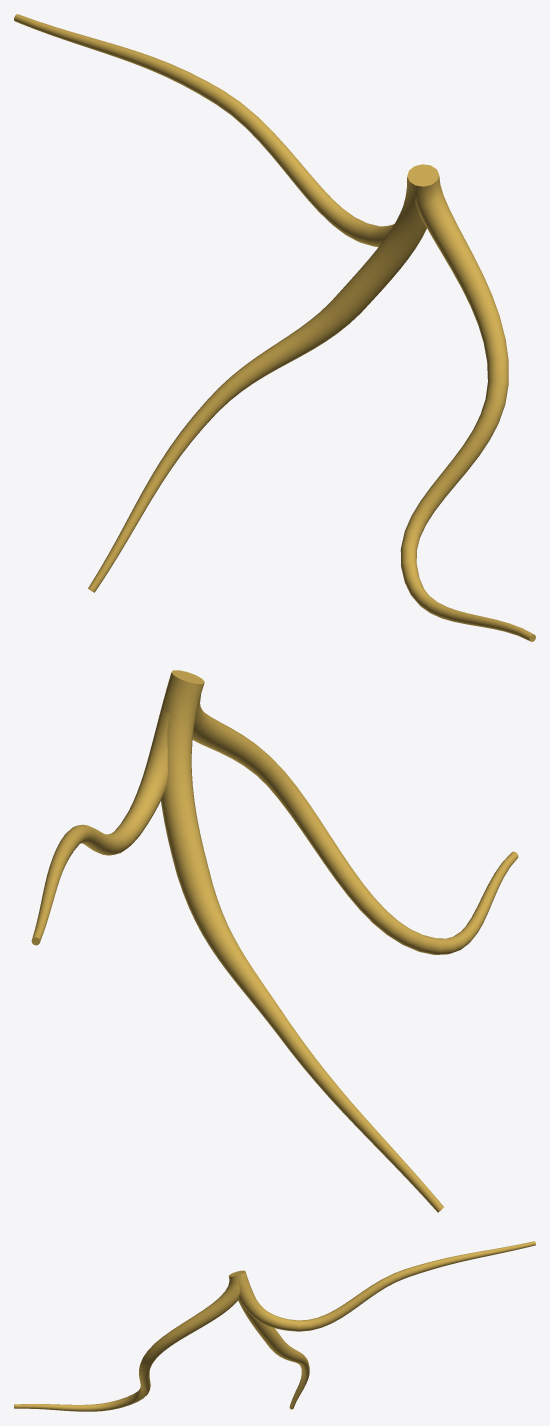
3 renders of one model, top to bottom at view 1: azimuth 30°, elevation 25°; view 2: azimuth 150°, elevation 25°; view 3: azimuth 270°, elevation 25°, orthographic. The views are drawn at different scales.
Parts seen in each view (by area): view 1: 左侧颏神经; view 2: 左侧颏神经; view 3: 左侧颏神经.
Boxes of the visible parts, bbox=[...] form: 左侧颏神经: bbox=[14, 14, 535, 641]; 左侧颏神经: bbox=[31, 670, 518, 1212]; 左侧颏神经: bbox=[14, 1241, 535, 1411].
Size of the model in its own units: 0.00653 by 0.0079 by 0.0175.
